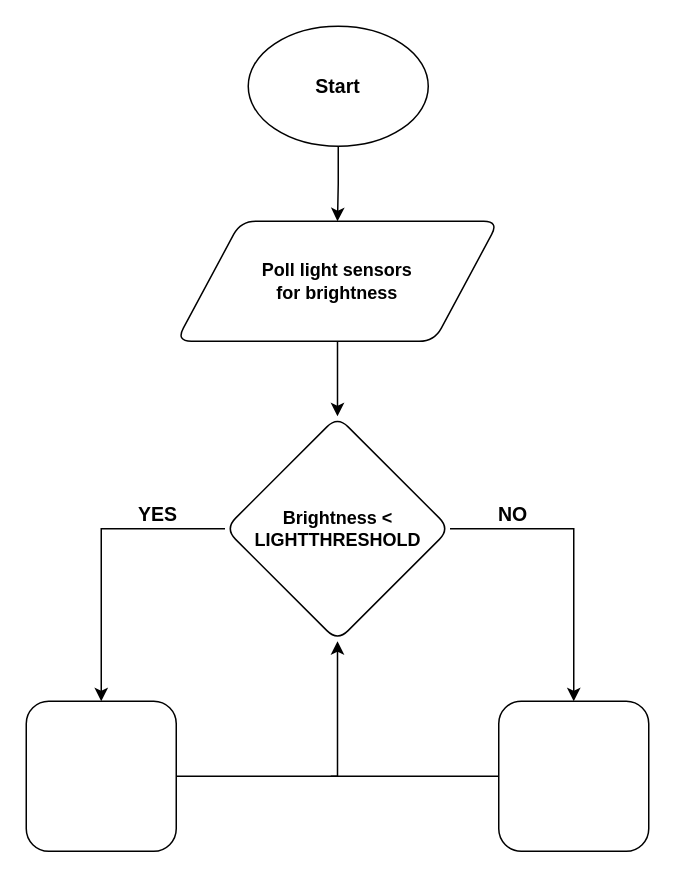
This 675x878 diagram has some shape labels left out. The centre of each missing label's shape, as x and y in pixels:
Turn off headlights: (573,775)
Turn on headlights: (100,775)
